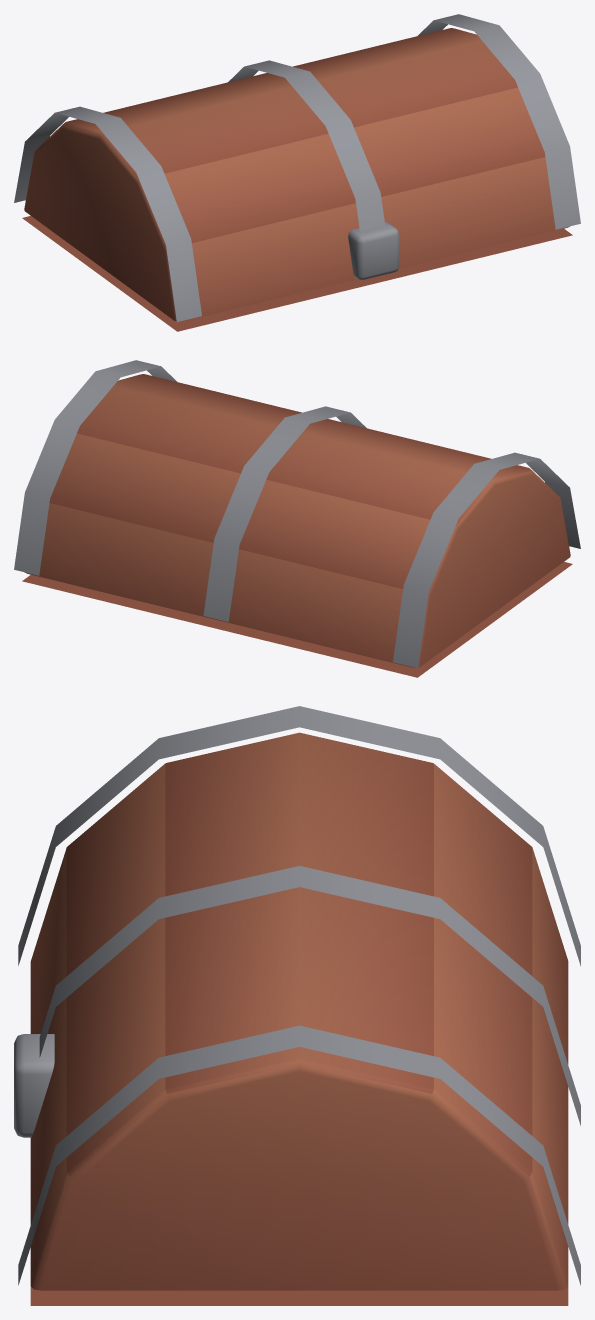
The model's file is chest_lid.glb.
3 renders of one model, top to bottom at view 1: azimuth 30°, elevation 25°; view 2: azimuth 150°, elevation 25°; view 3: azimuth 270°, elevation 25°, orthographic. The views are drawn at different scales.
Visible parts, largest first — view 1: chest_lid; view 2: chest_lid; view 3: chest_lid.
Part boxes in pixels (left/top/right/bottom): chest_lid: left=14, top=14, right=580, bottom=331; chest_lid: left=14, top=360, right=580, bottom=677; chest_lid: left=14, top=706, right=580, bottom=1305.
Bounding box in the file's own units: 0.96 × 0.345 × 0.675.
2 materials, 1 textured.
